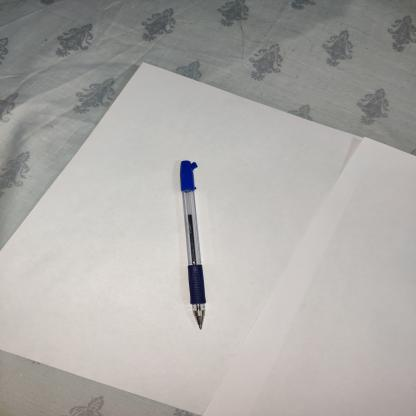pen: (167, 155, 233, 341)
